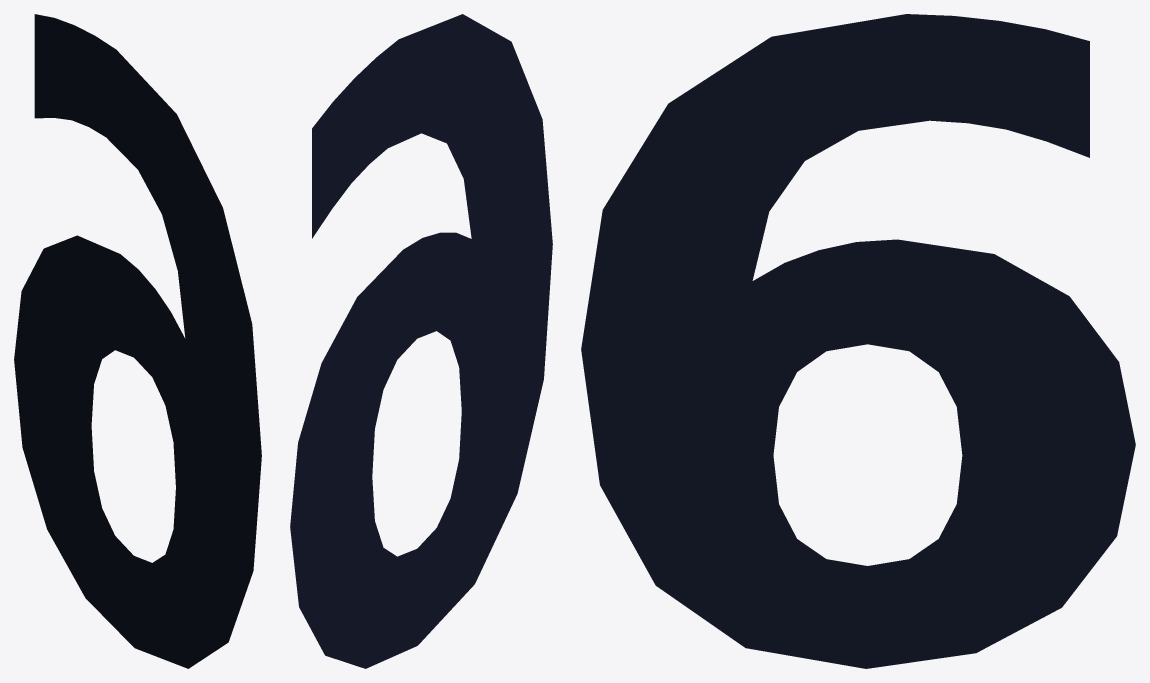
The model's file is lat_glyph_6.dae.
3 renders of one model, left to right at view 1: azimuth 30°, elevation 25°; view 2: azimuth 150°, elevation 25°; view 3: azimuth 270°, elevation 25°, orthographic. The views are drawn at different scales.
Parts seen in each view (by area): view 1: lat_glyph_6_L8; view 2: lat_glyph_6_L8; view 3: lat_glyph_6_L8.
Boxes of the visible parts, x1,y1,x2,y2 form: lat_glyph_6_L8: (14, 14, 261, 668); lat_glyph_6_L8: (290, 14, 552, 668); lat_glyph_6_L8: (581, 14, 1135, 668).
Size of the model in its own units: 0 by 0.796 by 1.04.
